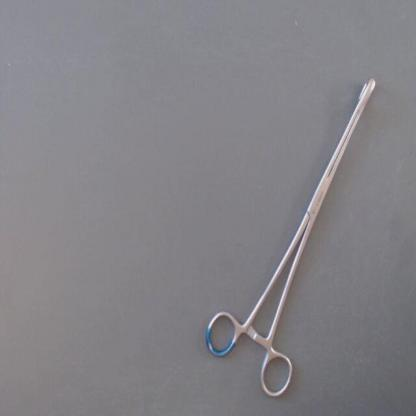Sponge Forceps: (199, 64, 385, 410)
